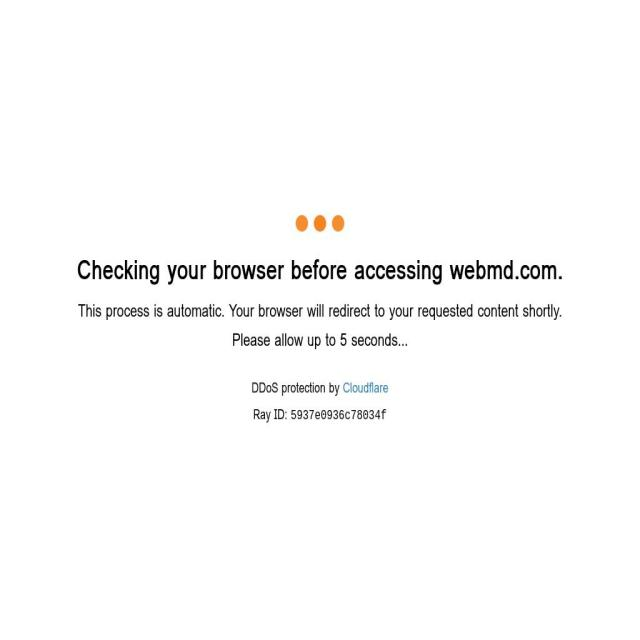heading: (77, 248, 444, 291), (443, 248, 563, 291)
image: (295, 215, 308, 232), (332, 215, 345, 232), (314, 215, 326, 232)
link: (343, 378, 388, 398)
text: (14, 329, 626, 352), (14, 300, 626, 322), (251, 378, 343, 398), (290, 408, 388, 424), (253, 404, 291, 425)
